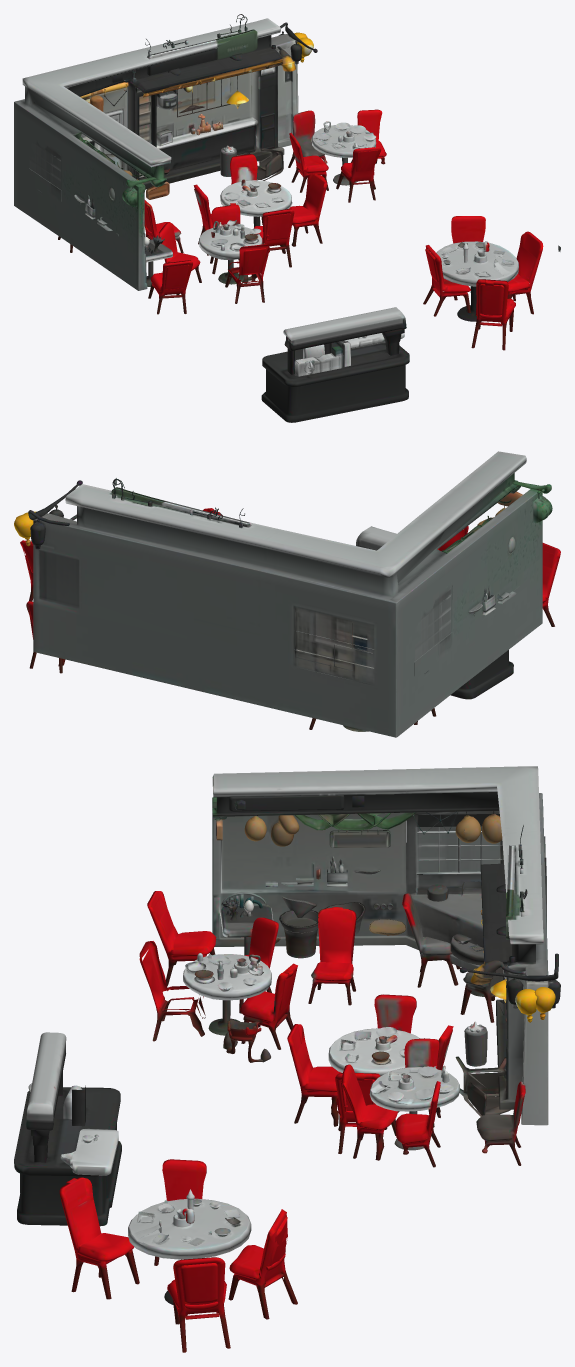
File: toonstudio_restaurant.glb
3 views of the same model, one above another, from view 1: azimuth 30°, elevation 25°; view 2: azimuth 150°, elevation 25°; view 3: azimuth 270°, elevation 25° (orthographic). The views are drawn at different scales.
Visible parts, largest first — view 1: tripo_9d5ce1f1_57bc_4600_98dd_e52838db5483; view 2: tripo_9d5ce1f1_57bc_4600_98dd_e52838db5483; view 3: tripo_9d5ce1f1_57bc_4600_98dd_e52838db5483.
Boxes of the visible parts, x1,y1,x2,y2 form: tripo_9d5ce1f1_57bc_4600_98dd_e52838db5483: (14, 14, 560, 422); tripo_9d5ce1f1_57bc_4600_98dd_e52838db5483: (14, 451, 560, 737); tripo_9d5ce1f1_57bc_4600_98dd_e52838db5483: (14, 766, 560, 1352).
Size of the model in its own units: 3 by 1.79 by 2.55.
Materials: 1 (1 with a texture image).
